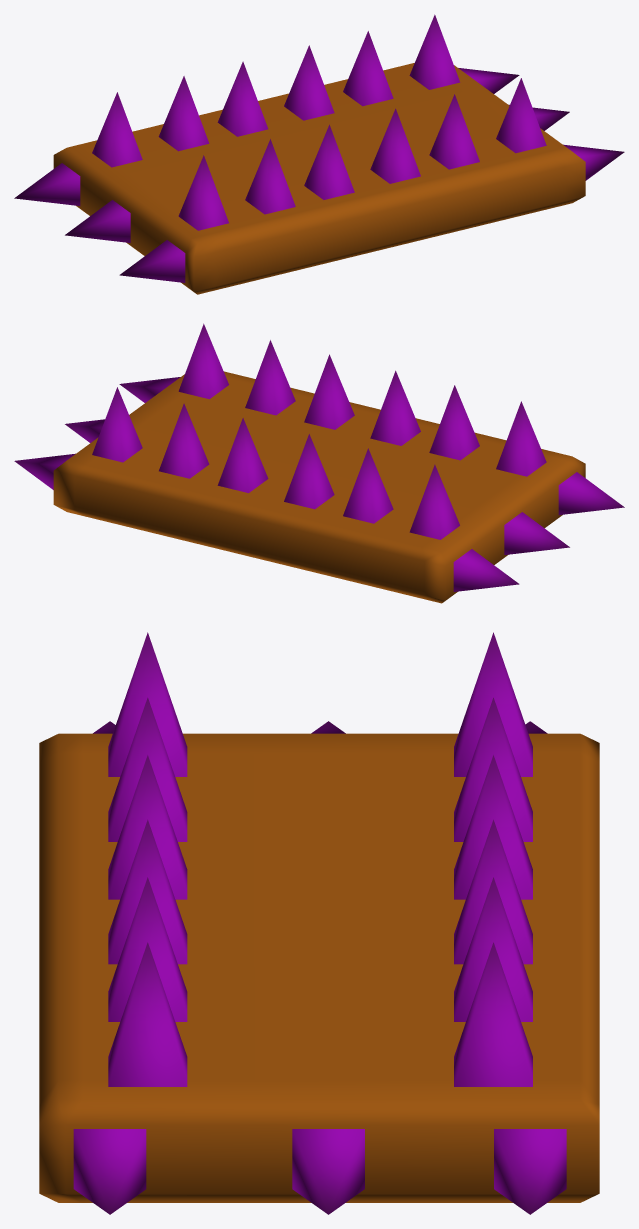
The model's file is O_Platform_Spikes_S_01.fbx.
3 renders of one model, top to bottom at view 1: azimuth 30°, elevation 25°; view 2: azimuth 150°, elevation 25°; view 3: azimuth 270°, elevation 25°, orthographic. The views are drawn at different scales.
Visible parts, largest first — view 1: Platform_small.001; view 2: Platform_small.001; view 3: Platform_small.001.
Part boxes in pixels (bbox=[...]): Platform_small.001: bbox=[14, 14, 624, 294]; Platform_small.001: bbox=[14, 323, 624, 603]; Platform_small.001: bbox=[39, 632, 599, 1214].
Bounding box in the file's own units: 2.27 × 0.4985 × 1.09.
